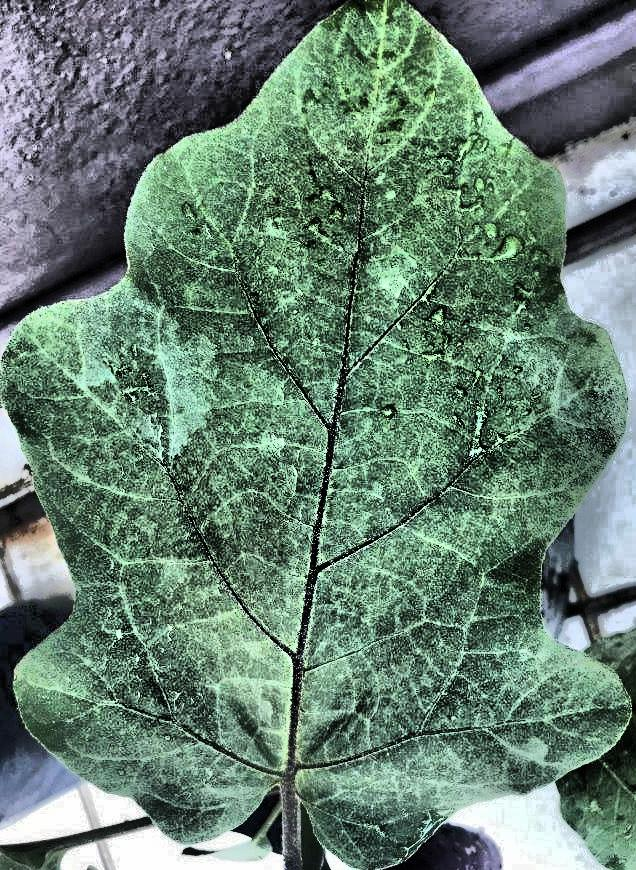HEALTHY: (1, 1, 636, 870)
